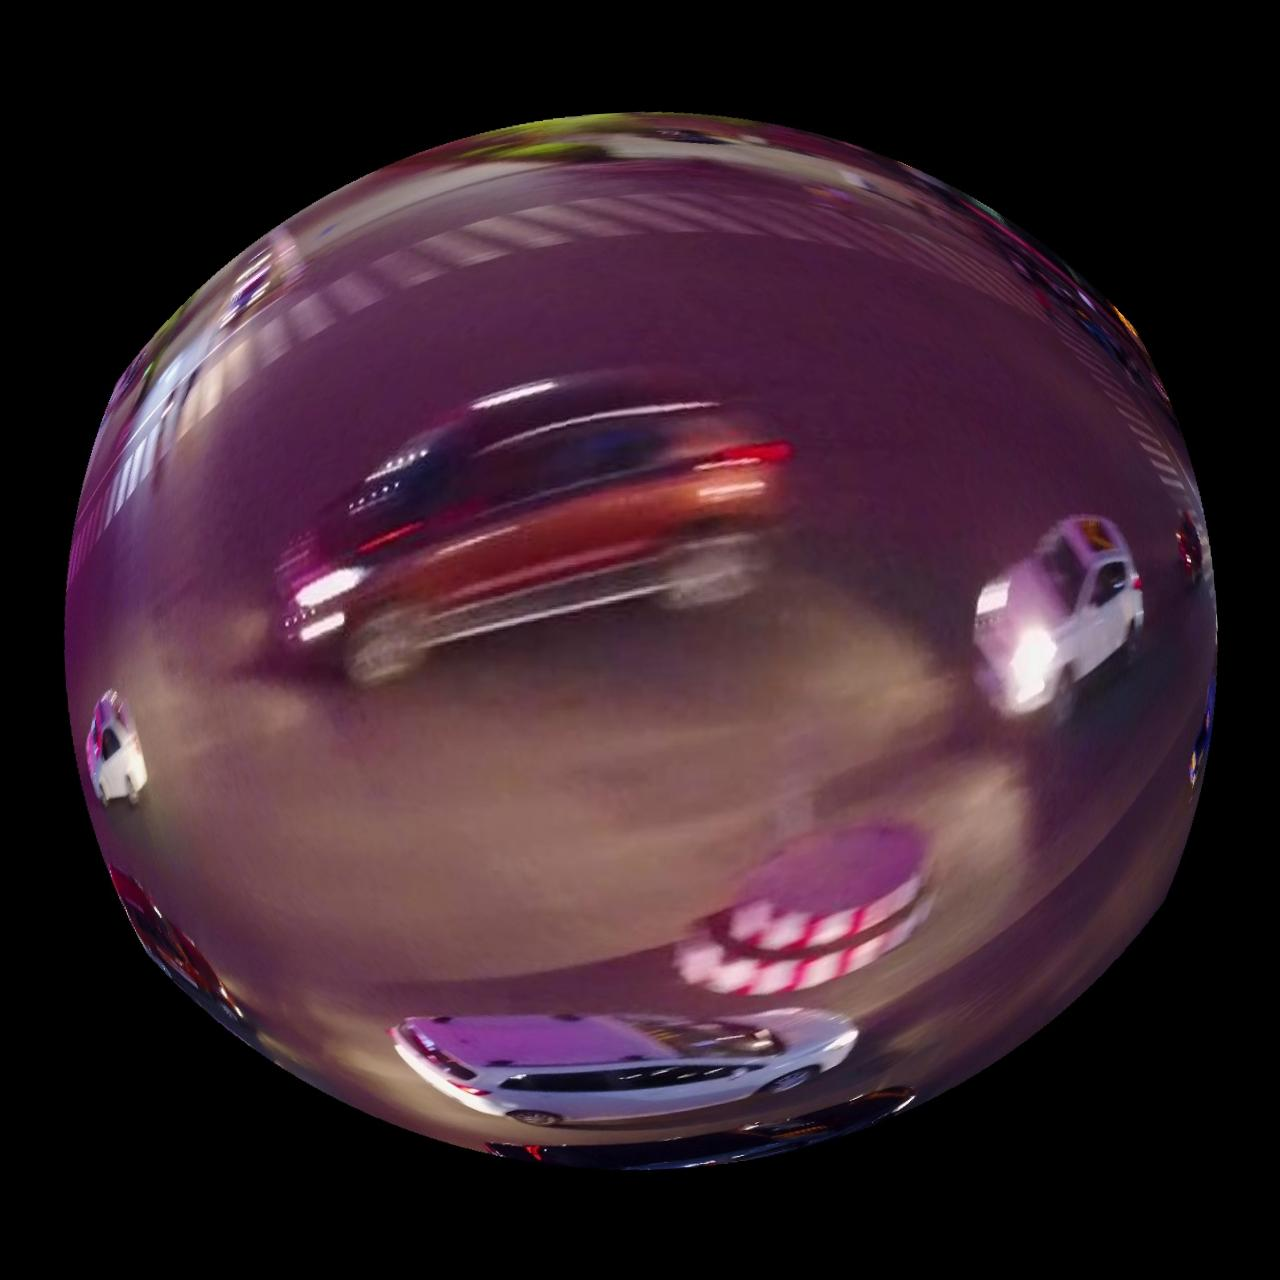cars: (276, 370, 794, 687), (390, 1009, 860, 1130), (977, 514, 1146, 725), (84, 690, 146, 808)
